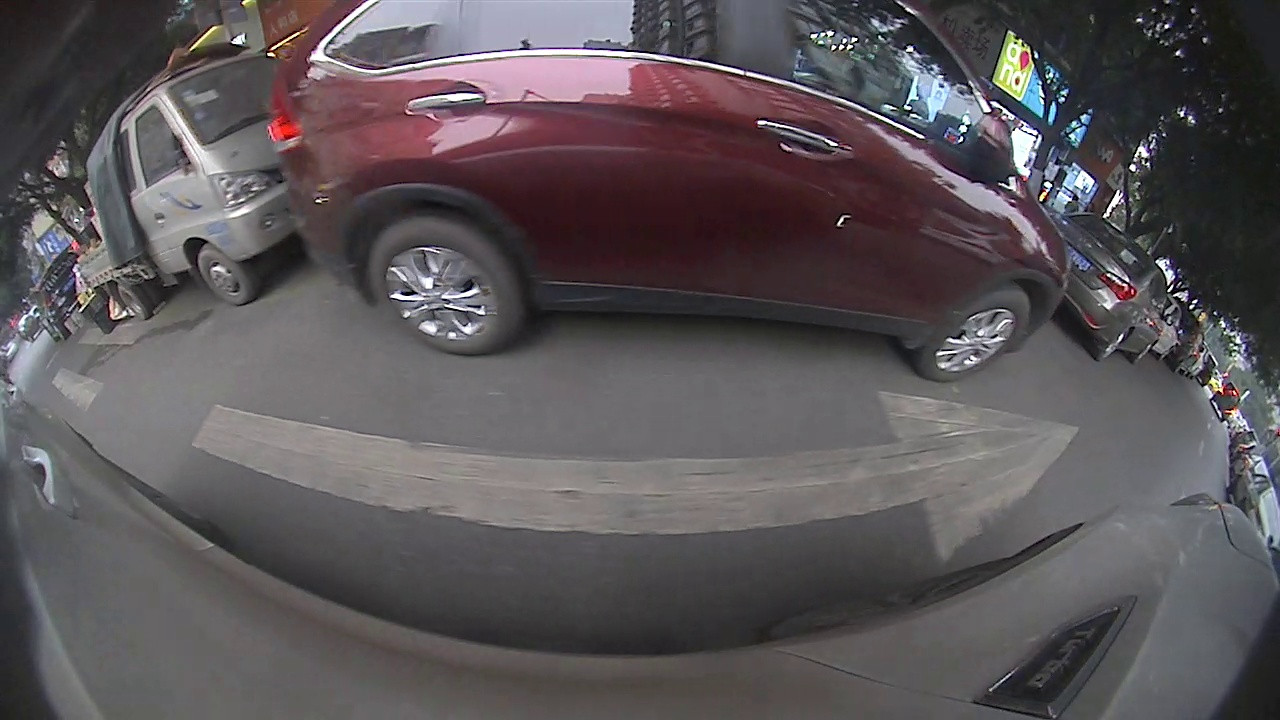car: (266, 2, 1066, 383), (1050, 211, 1170, 364)
front: (924, 287, 1033, 382), (199, 248, 254, 306)
rear: (372, 220, 517, 356), (114, 286, 152, 322), (1097, 326, 1132, 363)
truck: (71, 46, 300, 324)
